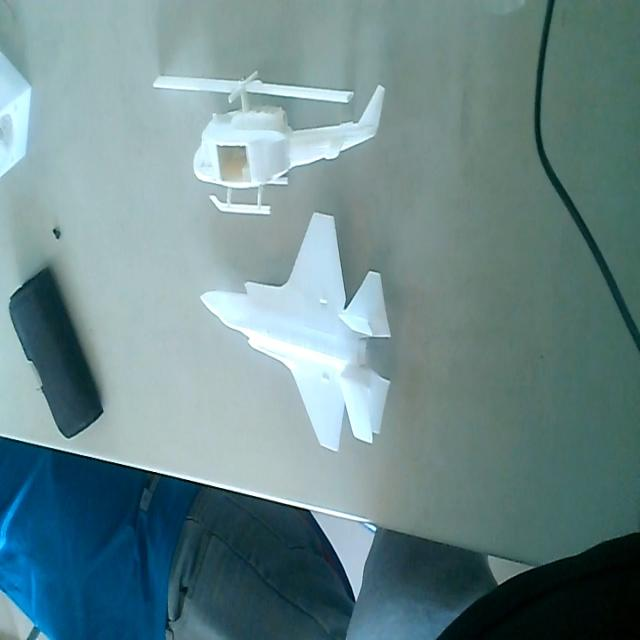Helicopter: (152, 57, 386, 223)
Jet: (202, 214, 392, 455)
